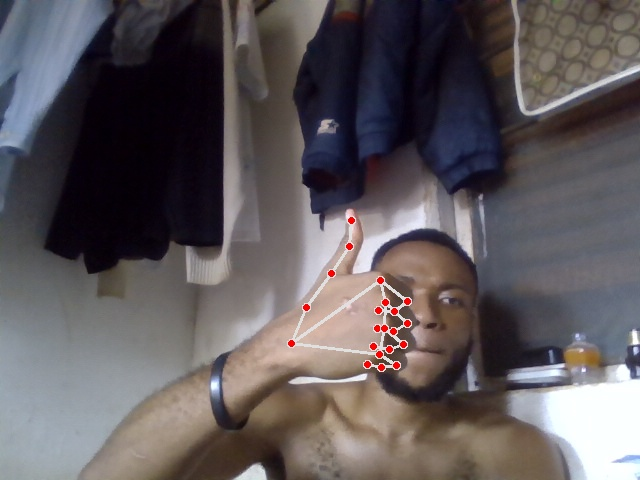thumbsup: (283, 208, 414, 380)
